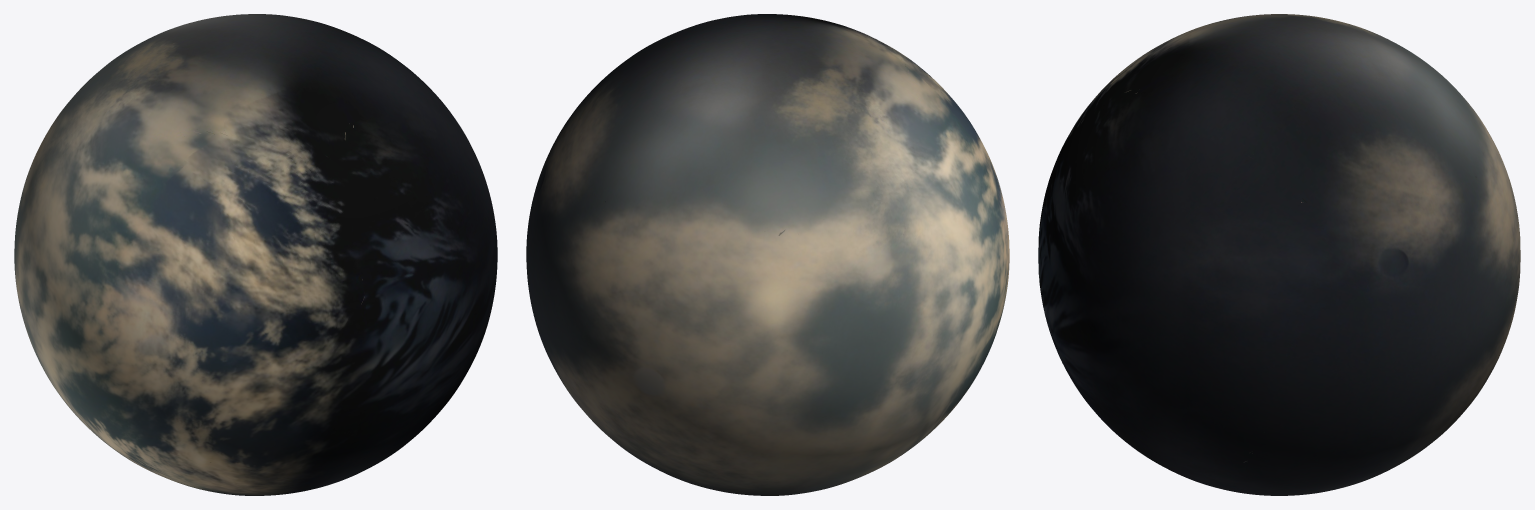
The model's file is trapist_1d.glb.
3 views of the same model, side by side, from view 1: azimuth 30°, elevation 25°; view 2: azimuth 150°, elevation 25°; view 3: azimuth 270°, elevation 25° (orthographic).
Size of the model in its own units: 2 by 2 by 2.
1 material, 1 textured.
